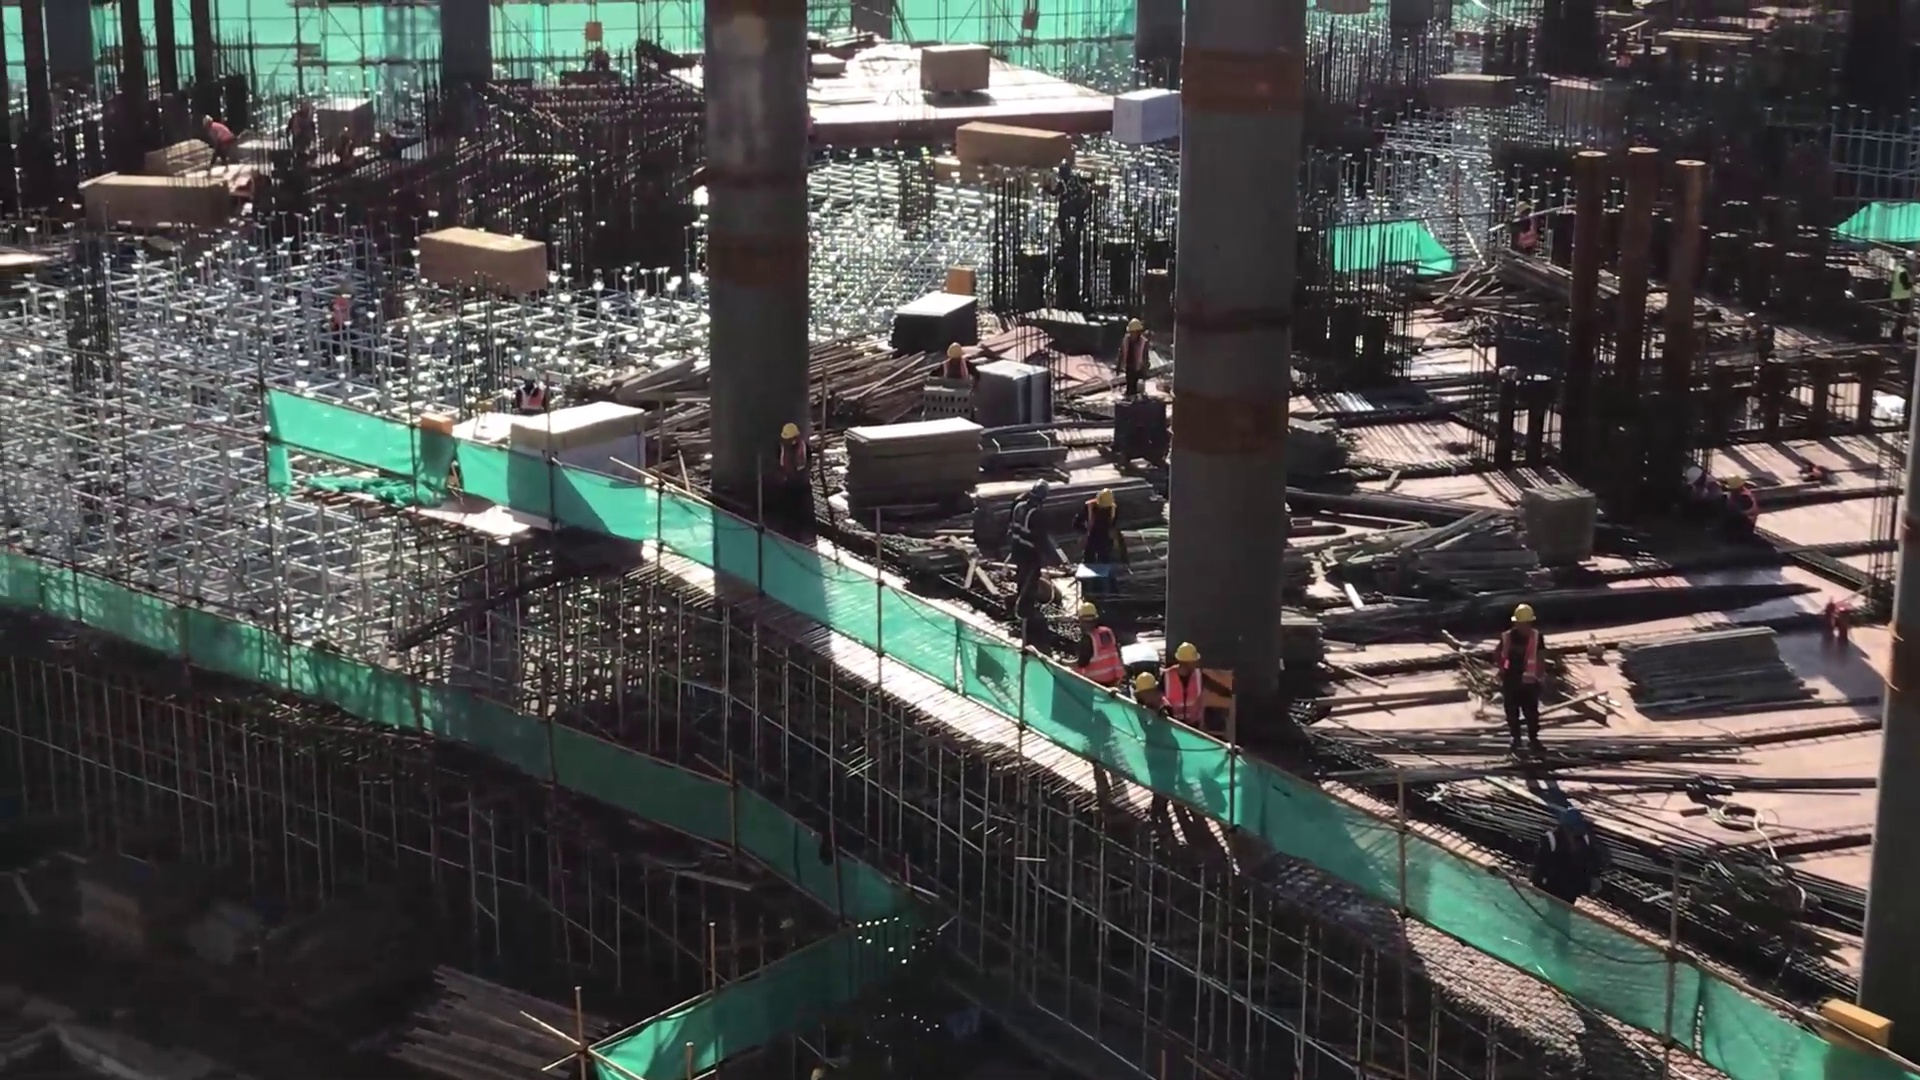helmet: (1504, 599, 1541, 638), (1072, 599, 1108, 636), (1023, 477, 1056, 511), (1164, 637, 1196, 671), (1130, 667, 1162, 700), (1089, 484, 1114, 515), (514, 367, 540, 394), (775, 421, 802, 447), (944, 340, 971, 366), (1684, 467, 1706, 496), (1126, 314, 1151, 339), (1723, 472, 1741, 495), (197, 111, 213, 130)
person: (1490, 590, 1558, 762), (1060, 591, 1128, 694), (1153, 636, 1213, 730), (1007, 473, 1050, 605), (1073, 478, 1126, 571), (1112, 311, 1152, 401), (191, 106, 239, 170), (504, 360, 553, 422)
vest: (1006, 506, 1049, 572), (1502, 637, 1541, 694), (1080, 631, 1121, 685), (1162, 670, 1201, 715), (1114, 330, 1147, 375), (208, 120, 229, 150)
